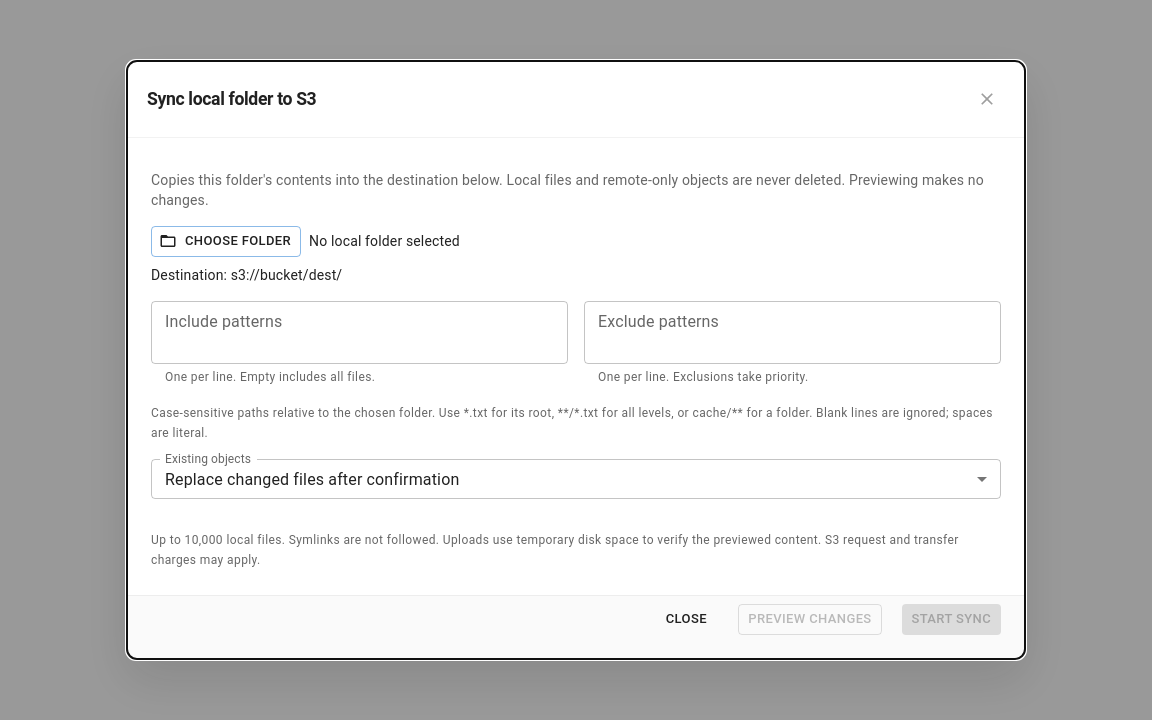
Test case: failed preview leaves Start disabled and exposes the error
The image size is (1152, 720).
Click the button "Choose folder".
click(226, 241)  # box x1=151 y1=226 x2=301 y2=257
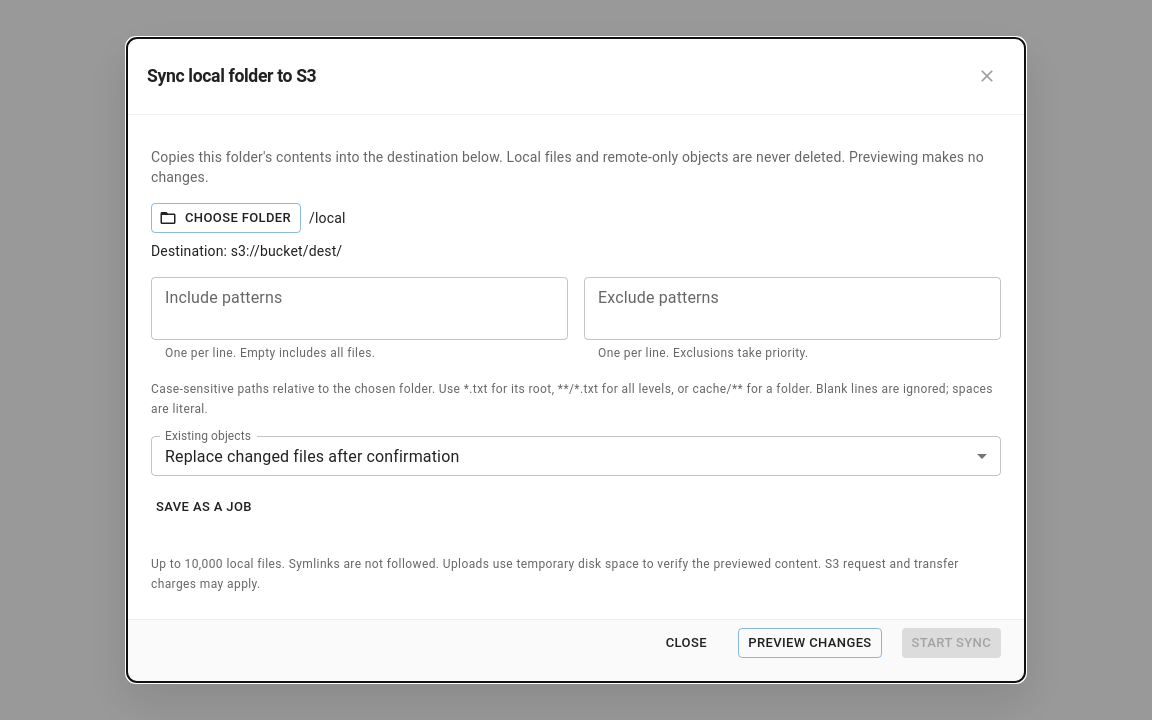
Expected: the text "/local" is shown, x1=309 y1=210 x2=346 y2=226
Click the button "Preview changes".
click(810, 643)  # box x1=738 y1=628 x2=882 y2=658
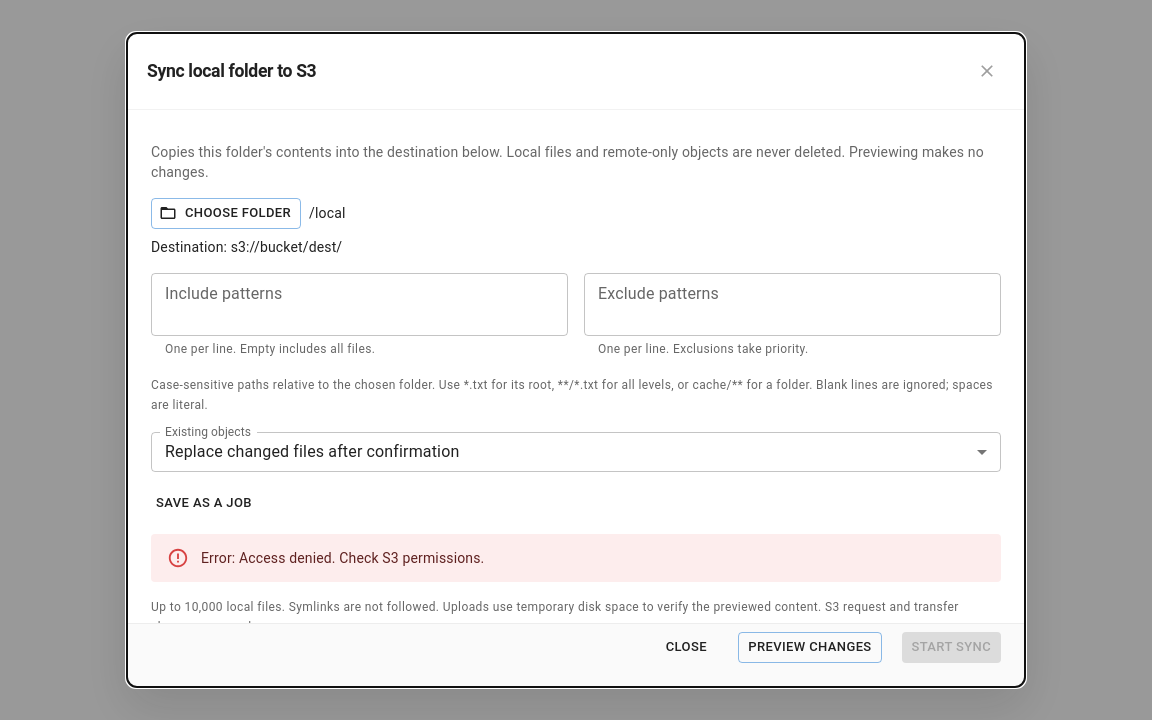
Expected: the button "Start sync" is disabled, x1=902 y1=632 x2=1001 y2=663
Expected: the text "Error: Access denied. Check S3 permissions." is shown, x1=201 y1=550 x2=484 y2=566
